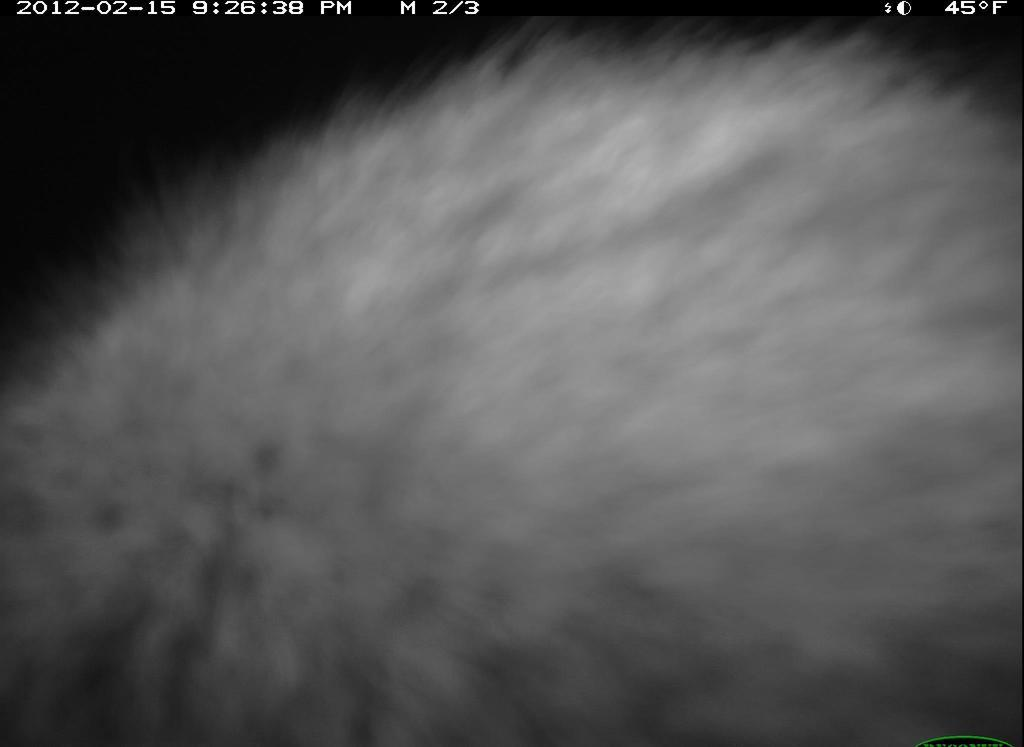raccoon: (3, 31, 1019, 742)
